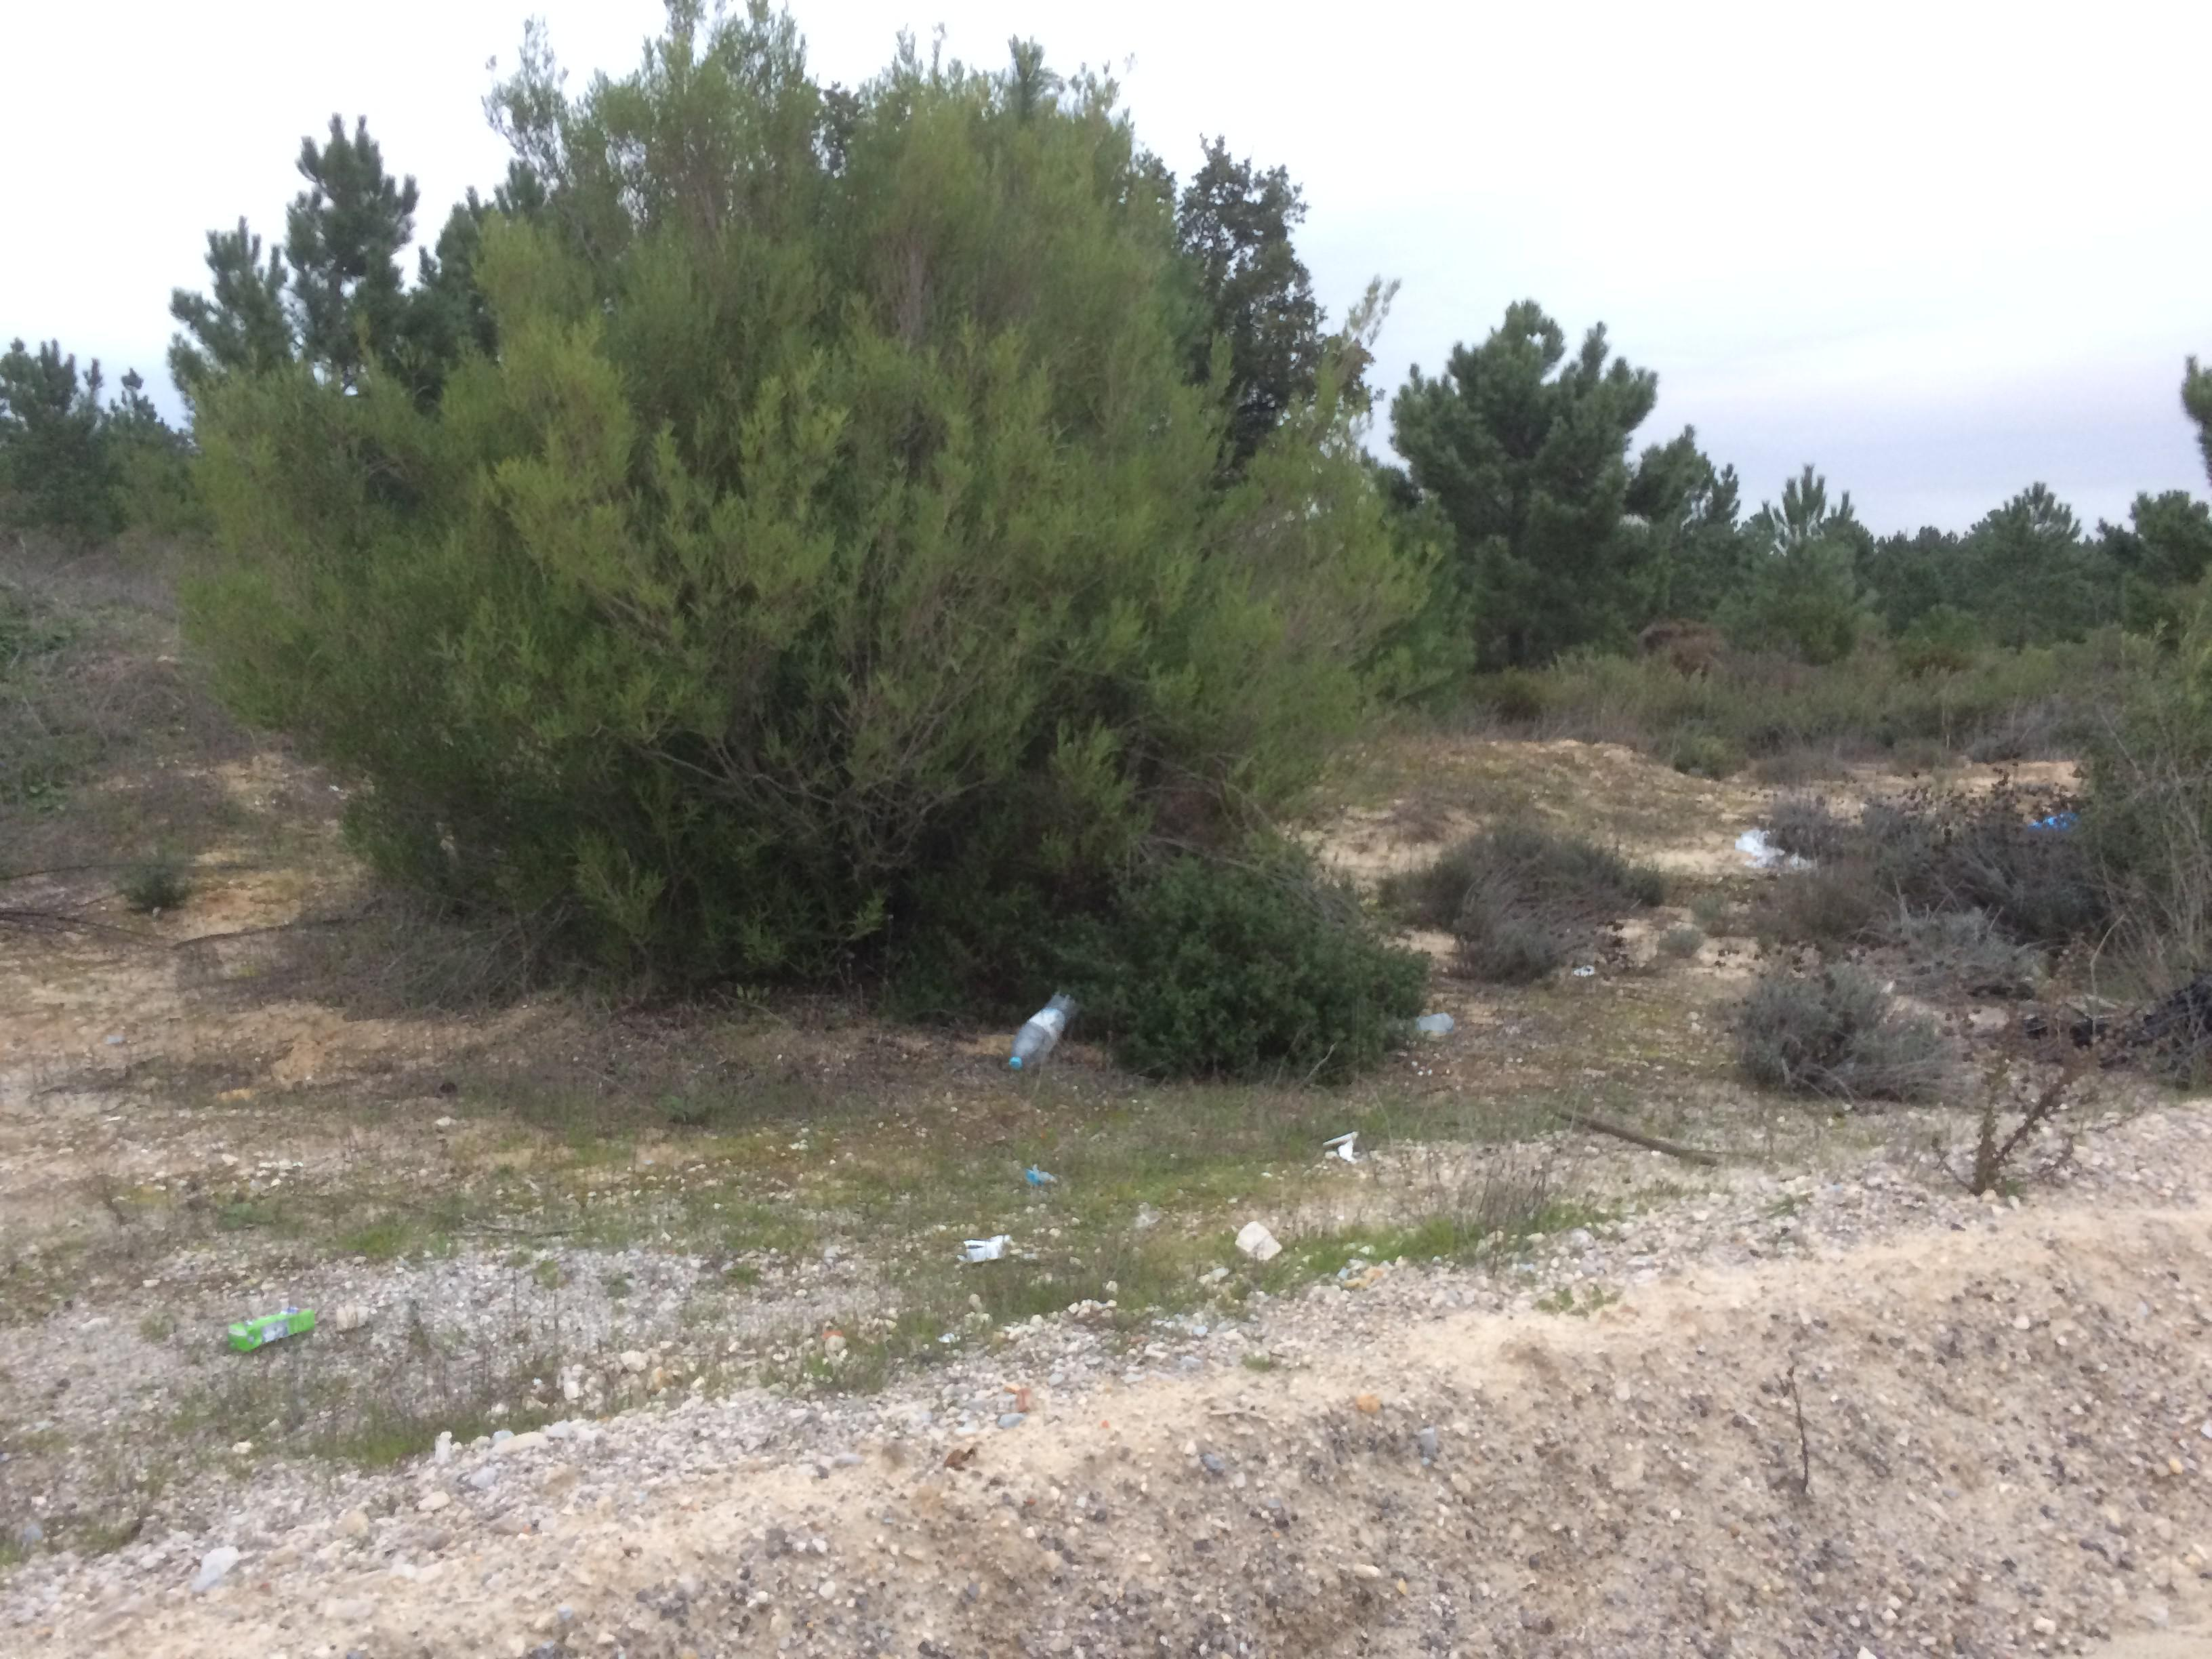Trash: (1010, 976, 1069, 1079), (232, 1319, 312, 1345), (1226, 1216, 1268, 1265), (958, 1237, 1008, 1262), (1024, 1157, 1050, 1195)
